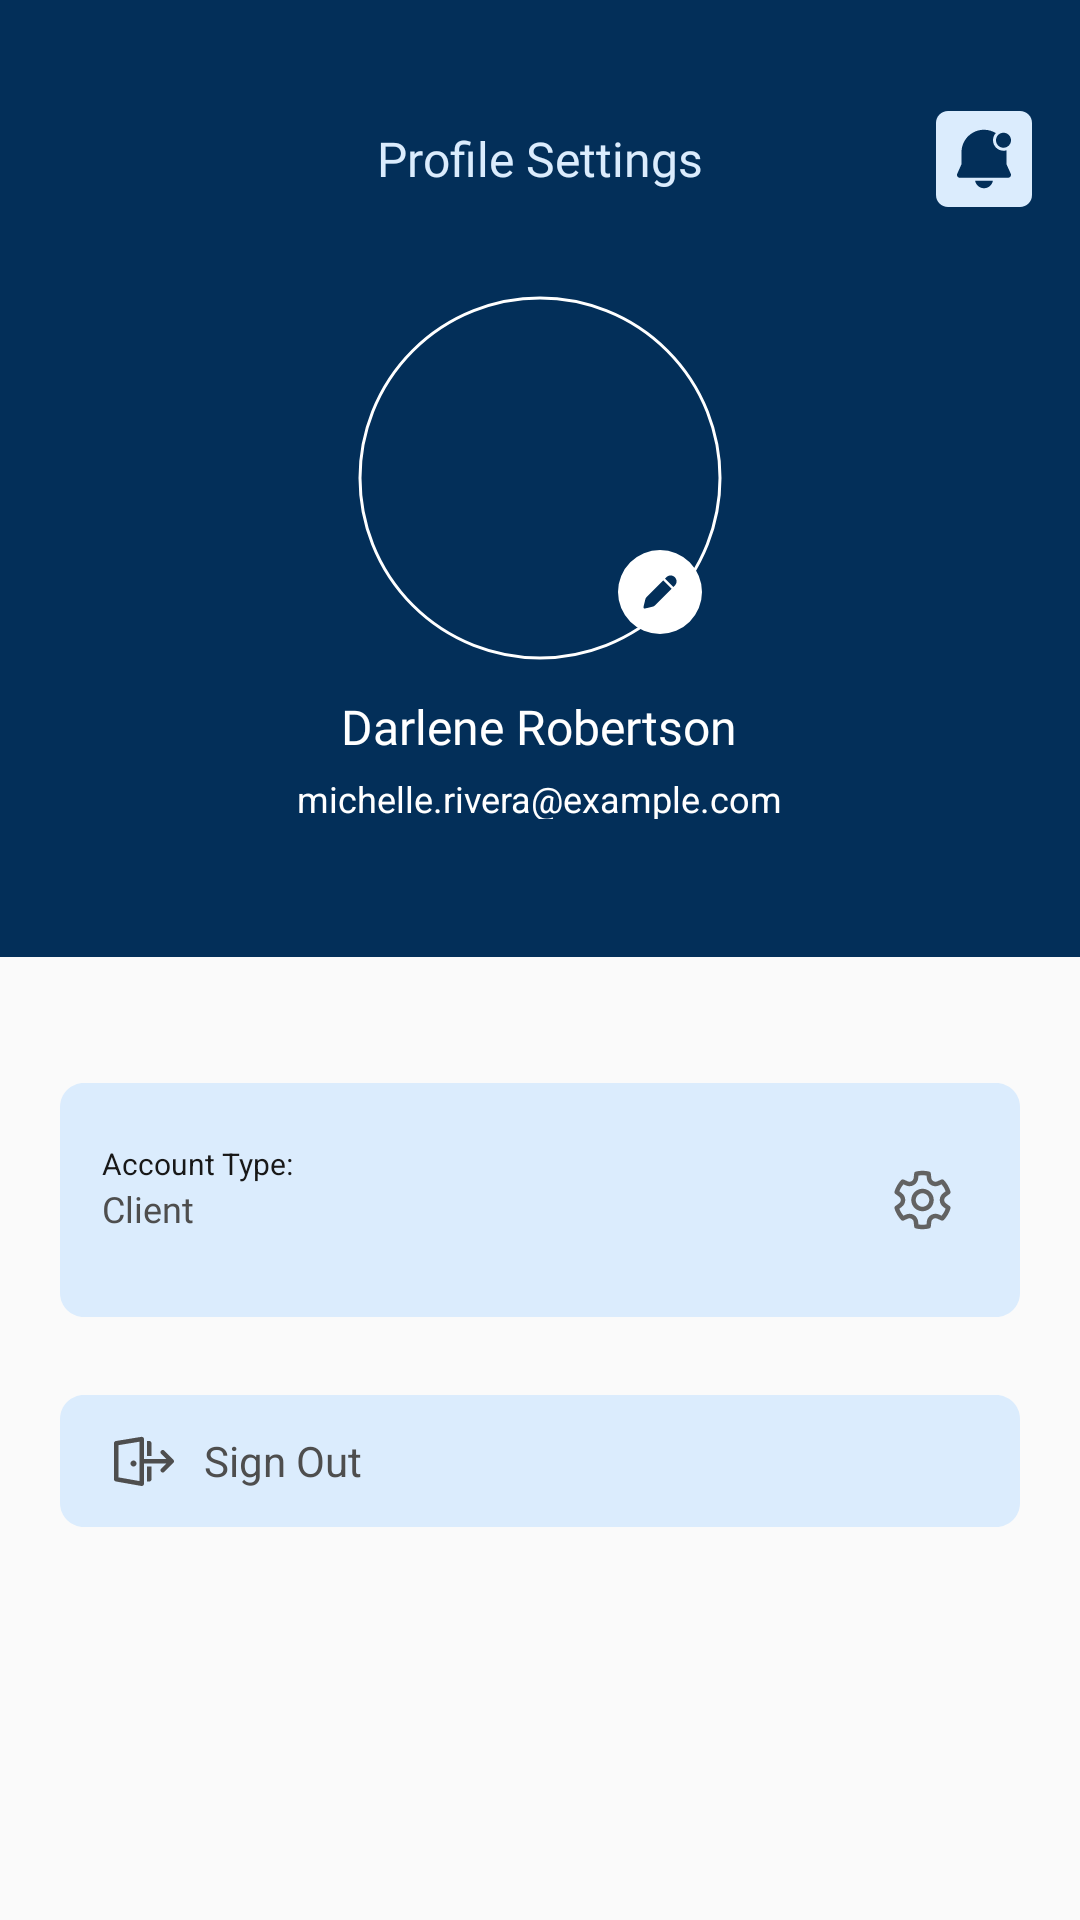

Icons on this 1080 x 1920 Android screen, each with the point to tap as [x,y]:
edit photo: [660,592]
notification: [984,159]
settings gear: [922,1200]
